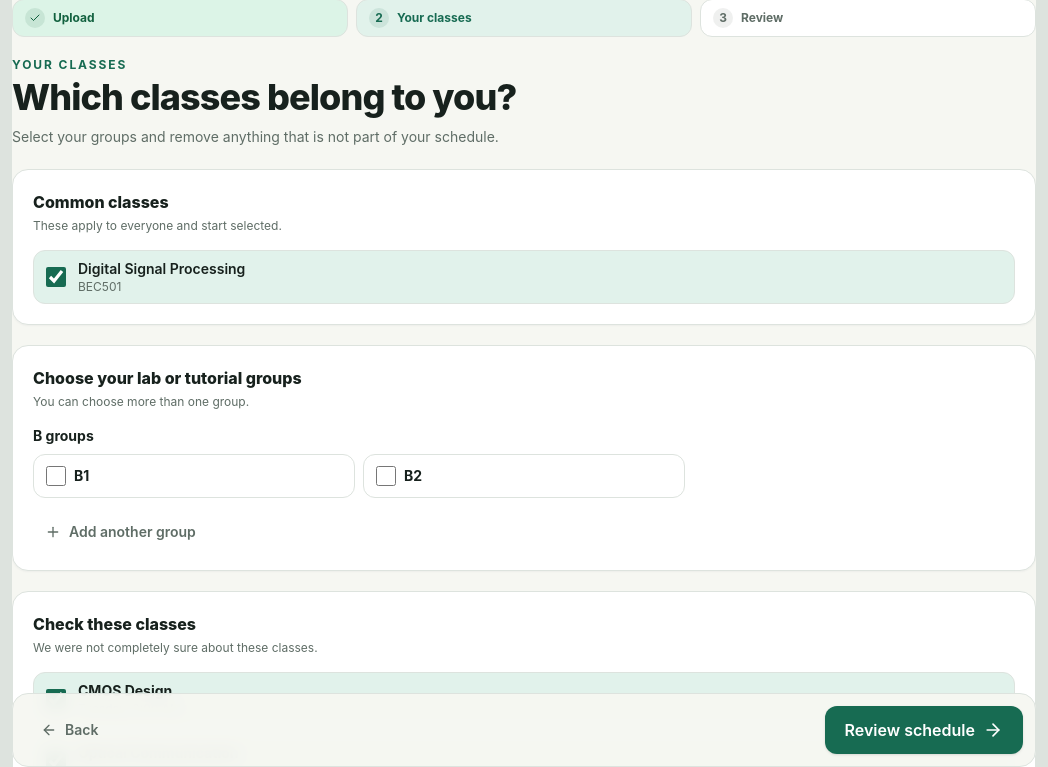
Test: simplified timetable confirmation › uses a compact selection summary and reserves the full grid for review
expect the number of buttons "Back" is 1: met, box [25,708,114,752]
Step 1. Click the checkbox labelled "B1" → point(56, 476), box [46,466,66,486]
(page scrolled)
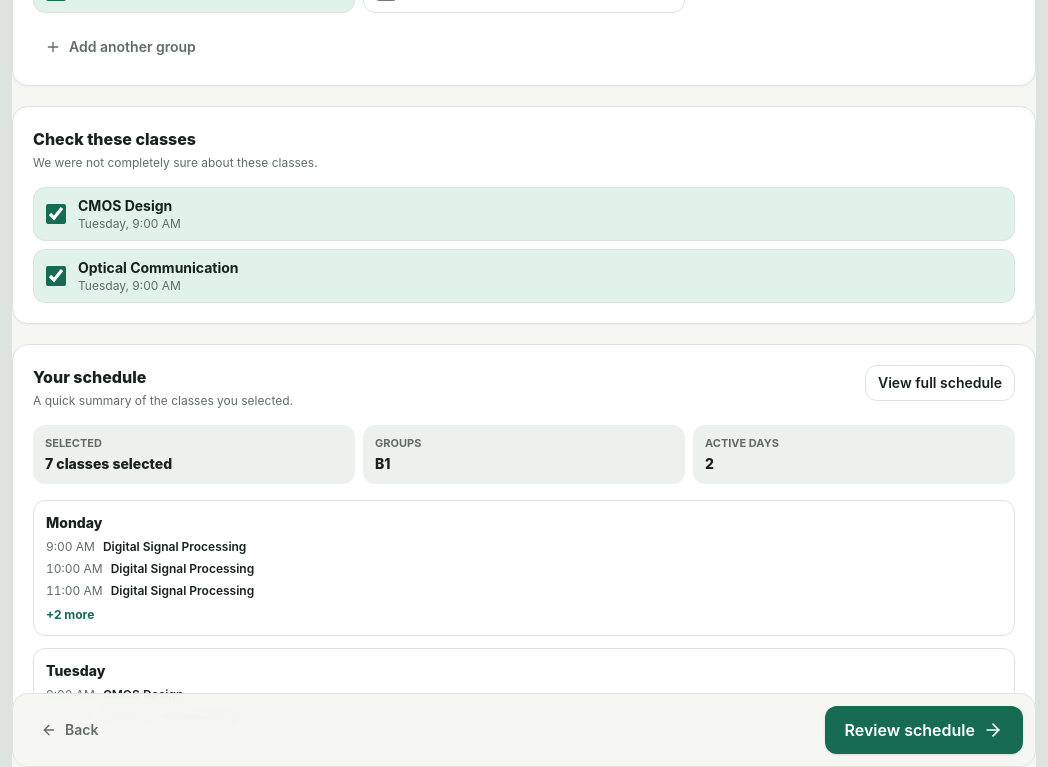
expect the text "B1" is shown: met, box [375,454,390,472]
Step 2. Click the button "View full schedule" → point(940, 383), box [865,365,1015,401]
(page scrolled)
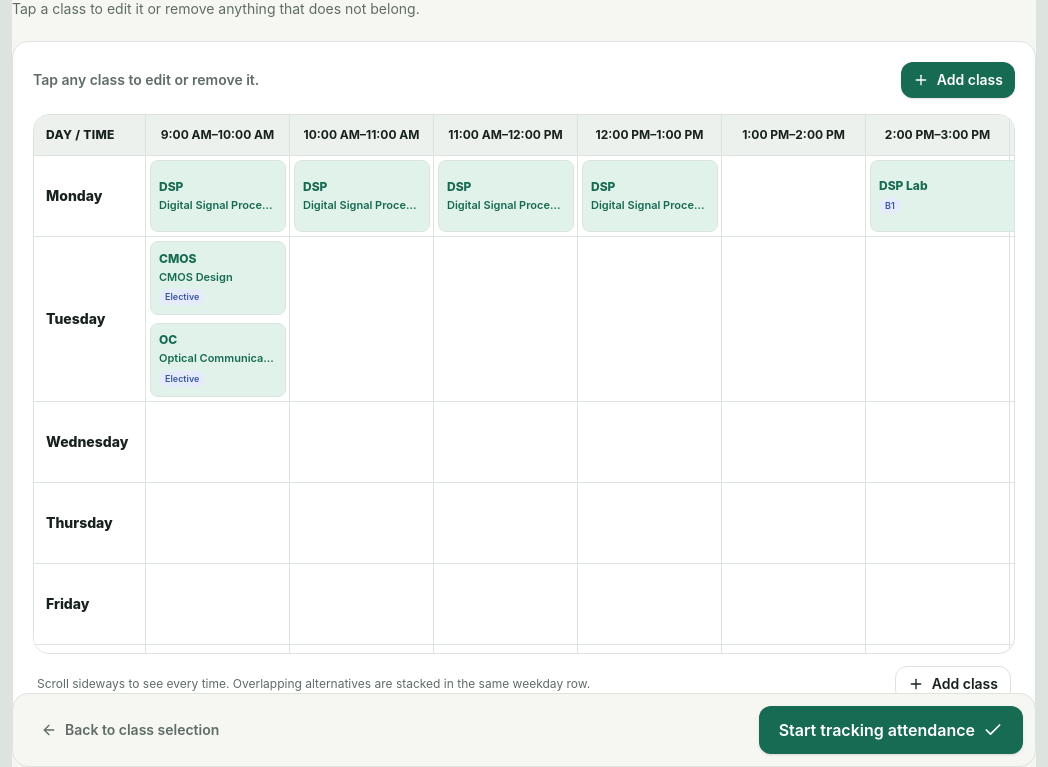
expect the element with test id "compact-schedule-summary" is gone: met
expect the element with test id "weekly-timetable-grid" is shown: met
